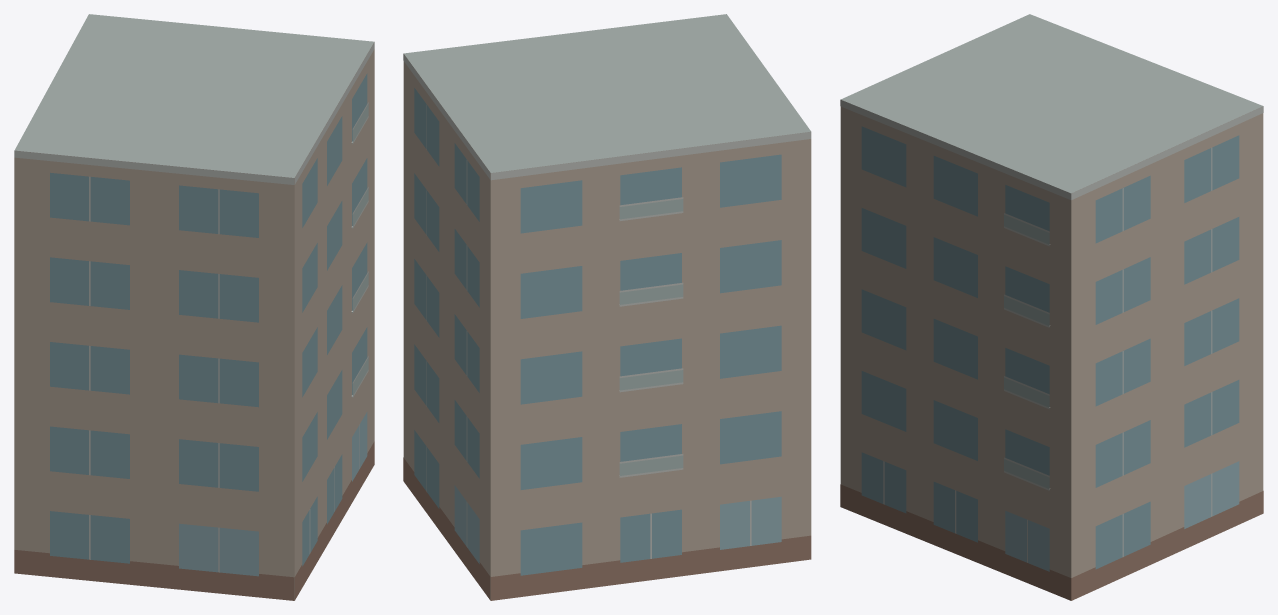
File: survey-upis-32692827.glb
The picture shows the model from 3 angles, left to right: view 1: azimuth 30°, elevation 25°; view 2: azimuth 150°, elevation 25°; view 3: azimuth 270°, elevation 25°; orthographic projection. The views are drawn at different scales.
Visible parts, largest first — view 1: survey-upis-32692827.tmp; view 2: survey-upis-32692827.tmp; view 3: survey-upis-32692827.tmp.
Boxes of the visible parts, x1,y1,x2,y2 form: survey-upis-32692827.tmp: (14, 14, 374, 600); survey-upis-32692827.tmp: (403, 14, 811, 600); survey-upis-32692827.tmp: (840, 14, 1263, 600).
Bounding box in the file's own units: 13.7 × 14.5 × 13.65.
